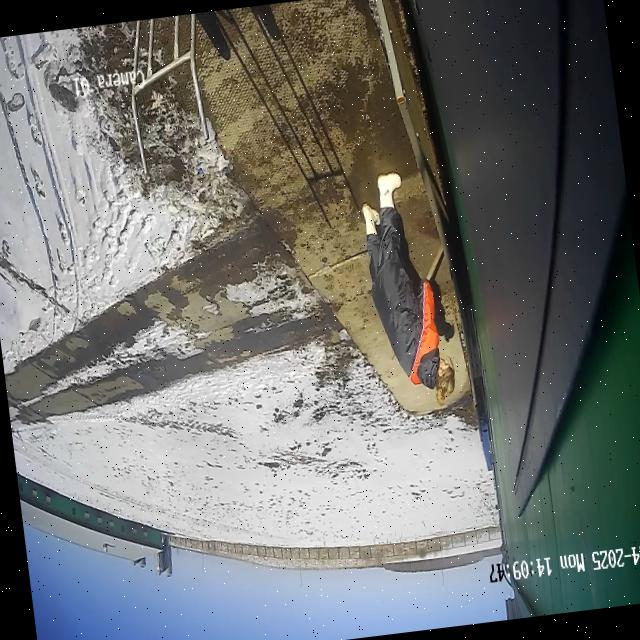Red uniform: (354, 164, 463, 413)
